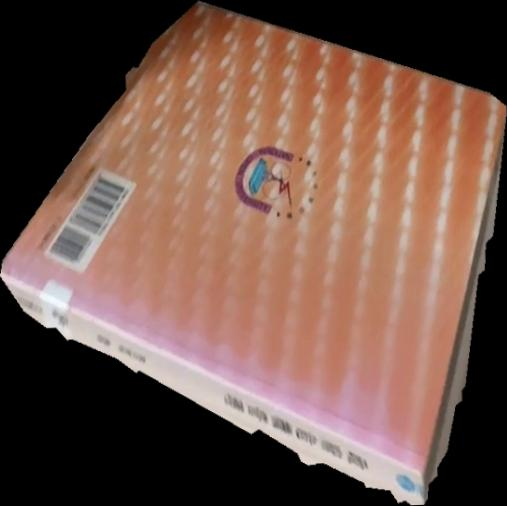flat: (1, 1, 507, 506)
